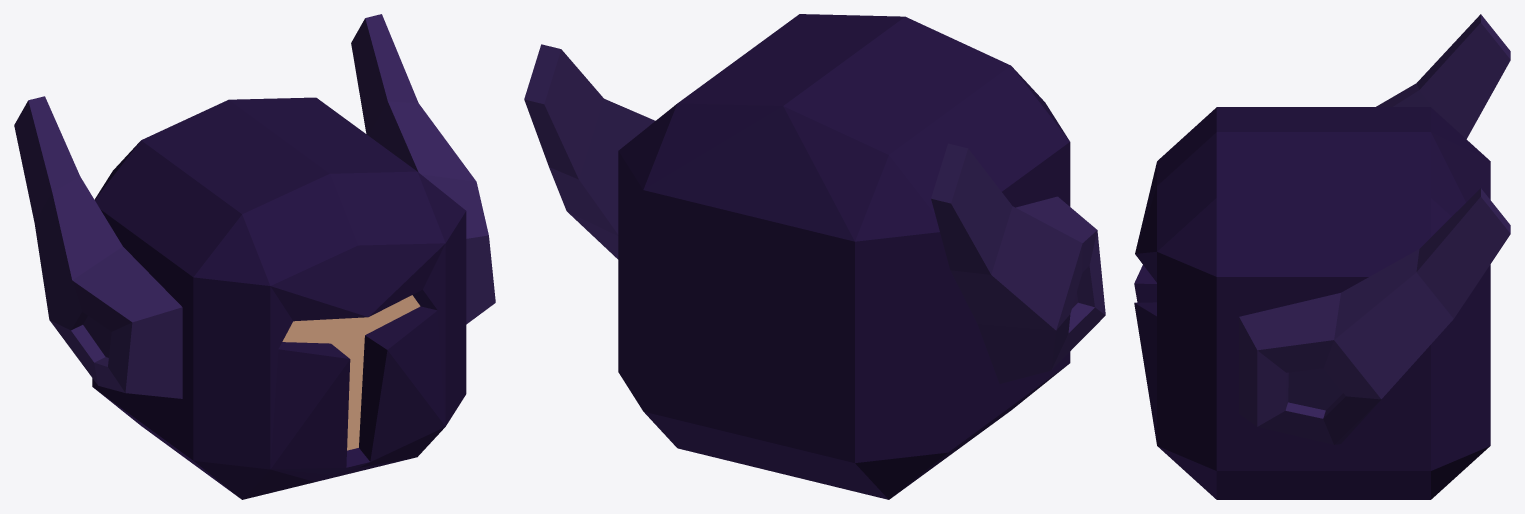
Rendered from Puranium Helmet.fbx.
3 renders of one model, left to right at view 1: azimuth 30°, elevation 25°; view 2: azimuth 150°, elevation 25°; view 3: azimuth 270°, elevation 25°, orthographic. The views are drawn at different scales.
Visible parts, largest first — view 1: Box015, Cylinder004; view 2: Box015, Cylinder004; view 3: Box015, Cylinder004.
Part boxes in pixels (x1,y1,x2,y2): Box015: [92, 97, 466, 499]; Cylinder004: [14, 14, 495, 398]; Box015: [618, 14, 1070, 499]; Cylinder004: [524, 44, 1105, 383]; Box015: [1134, 107, 1490, 499]; Cylinder004: [1239, 14, 1510, 444].
Size of the model in its own units: 21.26 by 16.54 by 16.16.
